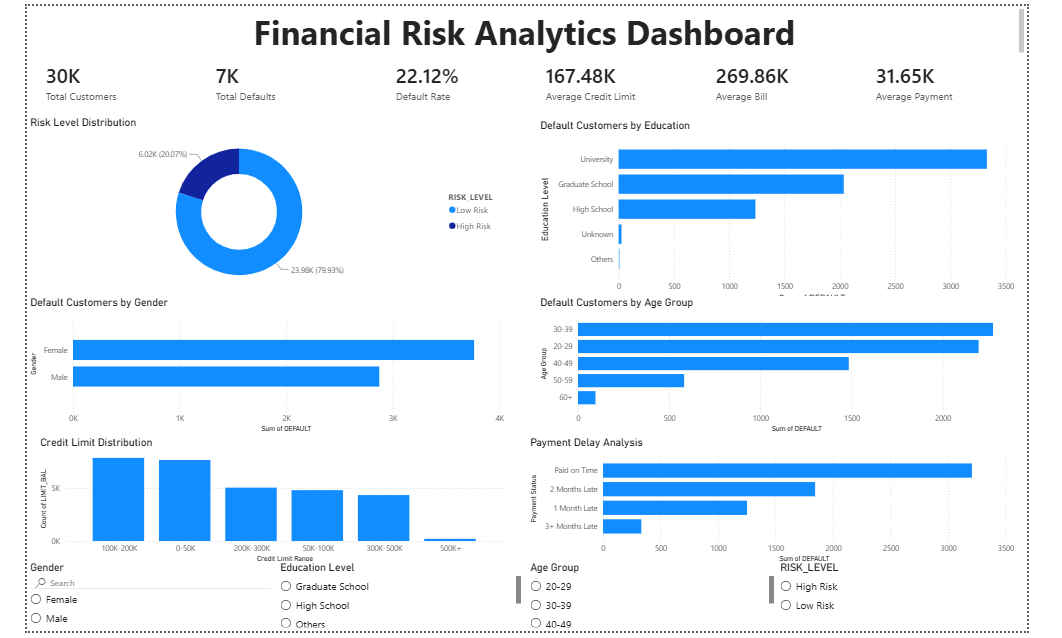

Layout of this report page (visuals, bound fields, positions):
{"tool":"powerbi","page":{"name":"Page 1","canvas":[1600,1000],"ordinal":0},"visuals":[{"type":"cardVisual","fields":{"Data":["financial_risk_powerbi.Total Customers"]},"box":[0,64,240,112],"z":0},{"type":"cardVisual","fields":{"Data":["financial_risk_powerbi.Total Defaults"]},"box":[272,64,256,112],"z":1000},{"type":"cardVisual","fields":{"Data":["financial_risk_powerbi.Default Rate"]},"box":[560,64,240,112],"z":2000},{"type":"cardVisual","fields":{"Data":["financial_risk_powerbi.Average Credit Limit"]},"box":[800,64,240,112],"z":3000},{"type":"cardVisual","fields":{"Data":["financial_risk_powerbi.Average Bill"]},"box":[1072,64,240,112],"z":4000},{"type":"cardVisual","fields":{"Data":["financial_risk_powerbi.Average Payment"]},"box":[1328,64,256,112],"z":5000},{"type":"donutChart","title":"Risk Level Distribution","fields":{"Category":["financial_risk_powerbi.RISK_LEVEL"],"Y":["CountNonNull(financial_risk_powerbi.risk level)"]},"box":[0,176,768,288],"z":6000},{"type":"clusteredBarChart","title":"Default Customers by Education","fields":{"Y":["Sum(financial_risk_powerbi.DEFAULT)"],"Category":["financial_risk_powerbi.Education Level"]},"box":[816,176,768,304],"z":7000},{"type":"clusteredBarChart","title":"Default Customers by Gender","fields":{"Category":["financial_risk_powerbi.Gender"],"Y":["Sum(financial_risk_powerbi.DEFAULT)"]},"box":[0,464,768,224],"z":8000},{"type":"clusteredBarChart","title":"Default Customers by Age Group","fields":{"Category":["financial_risk_powerbi.Age Group"],"Y":["Sum(financial_risk_powerbi.DEFAULT)"]},"box":[816,464,784,224],"z":9000},{"type":"clusteredColumnChart","title":"Credit Limit Distribution","fields":{"Category":["financial_risk_powerbi.Credit Limit Range"],"Y":["CountNonNull(financial_risk_powerbi.LIMIT_BAL)"]},"box":[16,688,752,208],"z":10000},{"type":"clusteredBarChart","title":"Payment Delay Analysis","fields":{"Category":["financial_risk_powerbi.Payment Status"],"Y":["Sum(financial_risk_powerbi.DEFAULT)"]},"box":[800,688,784,208],"z":11000},{"type":"textbox","box":[0,0,1600,80],"z":12000},{"type":"listSlicer","fields":{"Values":["financial_risk_powerbi.Gender"]},"box":[0,888,395,112],"z":13000},{"type":"listSlicer","fields":{"Values":["financial_risk_powerbi.Education Level"]},"box":[400,888,395,112],"z":13001},{"type":"listSlicer","fields":{"Values":["financial_risk_powerbi.Age Group"]},"box":[800,888,400,112],"z":13002},{"type":"listSlicer","fields":{"Values":["financial_risk_powerbi.RISK_LEVEL"]},"box":[1200,888,395,112],"z":13003}]}

Visuals, with their boxes on the page's 1600x1000 design canvas (x1, y1, x2, y2). These are canvas units, not pixel positions in the 1062x638 screenshot, which may show the page scaled, cropped or inside an application window:
cardVisual - financial_risk_powerbi.Total Customers: left=0, top=64, right=240, bottom=176
cardVisual - financial_risk_powerbi.Total Defaults: left=272, top=64, right=528, bottom=176
cardVisual - financial_risk_powerbi.Default Rate: left=560, top=64, right=800, bottom=176
cardVisual - financial_risk_powerbi.Average Credit Limit: left=800, top=64, right=1040, bottom=176
cardVisual - financial_risk_powerbi.Average Bill: left=1072, top=64, right=1312, bottom=176
cardVisual - financial_risk_powerbi.Average Payment: left=1328, top=64, right=1584, bottom=176
"Risk Level Distribution" donutChart: left=0, top=176, right=768, bottom=464
"Default Customers by Education" clusteredBarChart: left=816, top=176, right=1584, bottom=480
"Default Customers by Gender" clusteredBarChart: left=0, top=464, right=768, bottom=688
"Default Customers by Age Group" clusteredBarChart: left=816, top=464, right=1600, bottom=688
"Credit Limit Distribution" clusteredColumnChart: left=16, top=688, right=768, bottom=896
"Payment Delay Analysis" clusteredBarChart: left=800, top=688, right=1584, bottom=896
textbox: left=0, top=0, right=1600, bottom=80
listSlicer - financial_risk_powerbi.Gender: left=0, top=888, right=395, bottom=1000
listSlicer - financial_risk_powerbi.Education Level: left=400, top=888, right=795, bottom=1000
listSlicer - financial_risk_powerbi.Age Group: left=800, top=888, right=1200, bottom=1000
listSlicer - financial_risk_powerbi.RISK_LEVEL: left=1200, top=888, right=1595, bottom=1000
